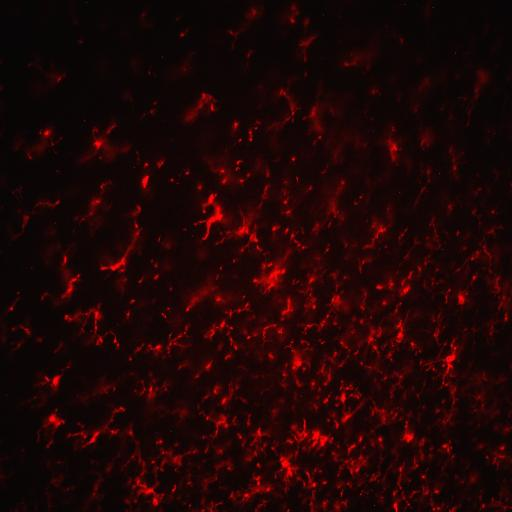microglia: (219, 180, 271, 264), (421, 334, 466, 426), (100, 206, 143, 292), (299, 268, 349, 334), (378, 252, 432, 306), (70, 406, 134, 448), (64, 301, 120, 349), (136, 374, 190, 422), (185, 279, 251, 318), (81, 121, 131, 166), (191, 192, 233, 243), (252, 246, 292, 296), (312, 176, 346, 234), (243, 319, 291, 359), (310, 350, 347, 401), (135, 323, 190, 357), (76, 177, 114, 226), (381, 304, 413, 362), (28, 364, 72, 406), (150, 438, 198, 476), (485, 272, 512, 339), (205, 158, 269, 186), (280, 339, 314, 391), (362, 202, 394, 252), (238, 423, 274, 467), (286, 421, 334, 453), (300, 252, 324, 316), (332, 381, 364, 428), (356, 322, 383, 373), (36, 407, 68, 449), (126, 474, 164, 509), (205, 322, 239, 361), (233, 475, 274, 507), (305, 102, 336, 144), (57, 245, 80, 301), (269, 87, 297, 132), (200, 458, 236, 493), (270, 450, 300, 492), (401, 423, 425, 472), (176, 354, 216, 382), (381, 366, 413, 401), (369, 398, 404, 430), (183, 94, 220, 124), (299, 467, 323, 512), (202, 414, 238, 442), (391, 464, 412, 512), (322, 480, 353, 512), (28, 126, 56, 160), (336, 451, 370, 479), (220, 375, 244, 410), (463, 246, 494, 272), (280, 175, 296, 221), (198, 382, 224, 410), (232, 120, 261, 144), (482, 444, 511, 468), (420, 480, 441, 512), (295, 34, 315, 64), (343, 54, 370, 76), (170, 482, 191, 510), (442, 292, 470, 312), (426, 215, 442, 249), (12, 212, 29, 243), (472, 71, 488, 100), (33, 197, 62, 212), (5, 290, 23, 314), (383, 137, 399, 163), (447, 149, 461, 178), (140, 160, 150, 197), (417, 125, 431, 150), (246, 6, 261, 21), (289, 6, 299, 23), (156, 155, 165, 169)
